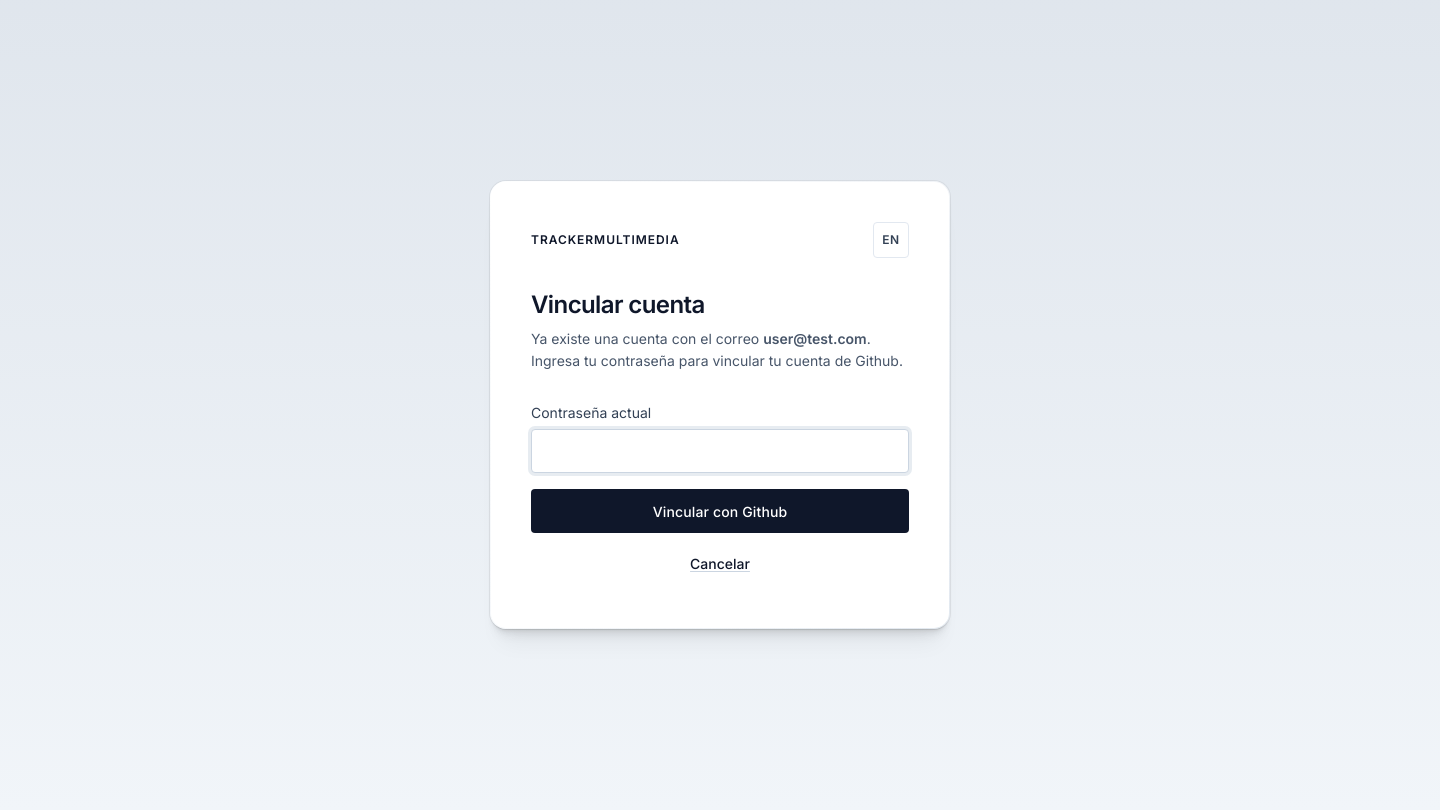
LinkAccountView › shows the extracted error when linking fails
In the password field labelled "Contraseña actual": (720, 451) [531,429,909,473], type "wrong-pass"
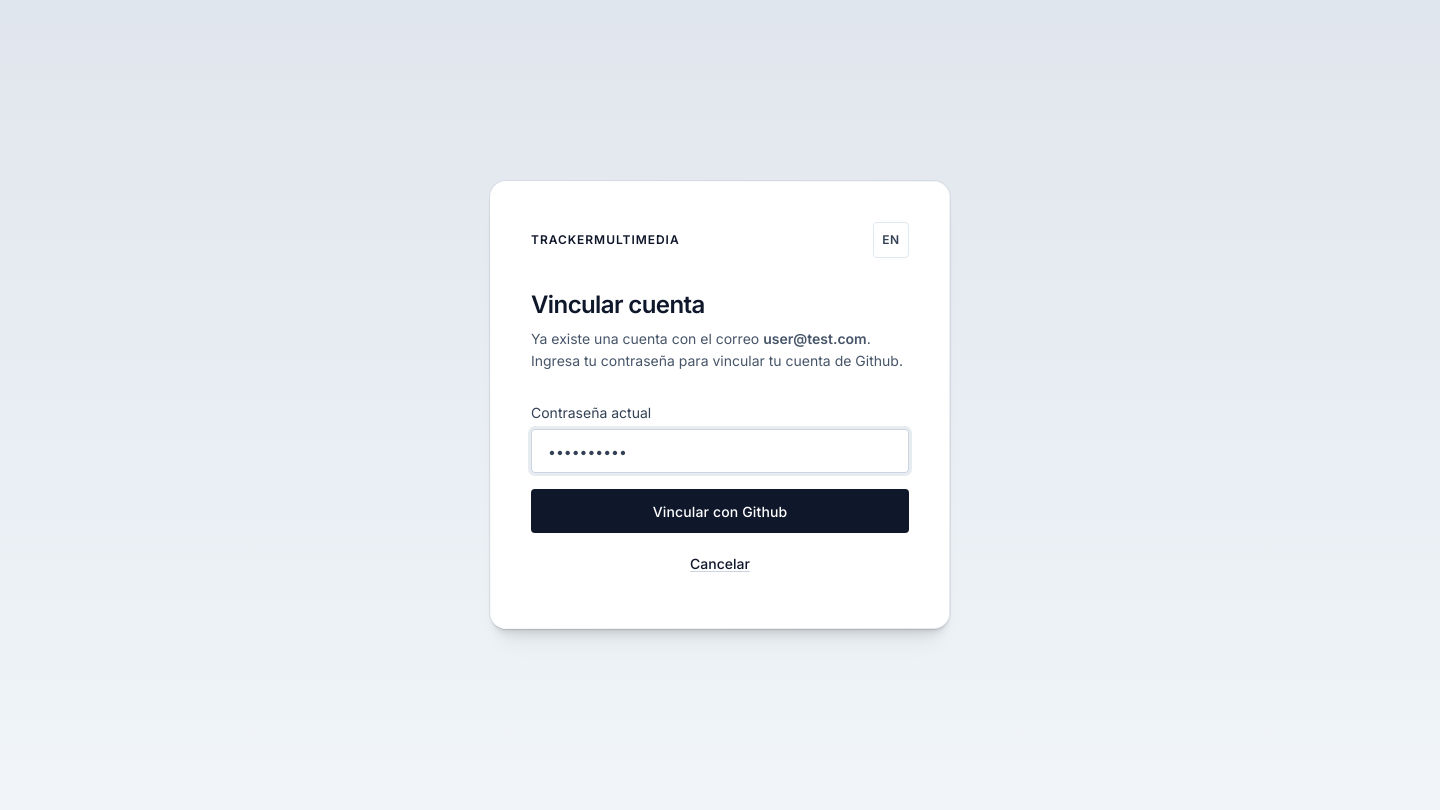
Click the button "Vincular con Github": (720, 511) [531,489,909,533]
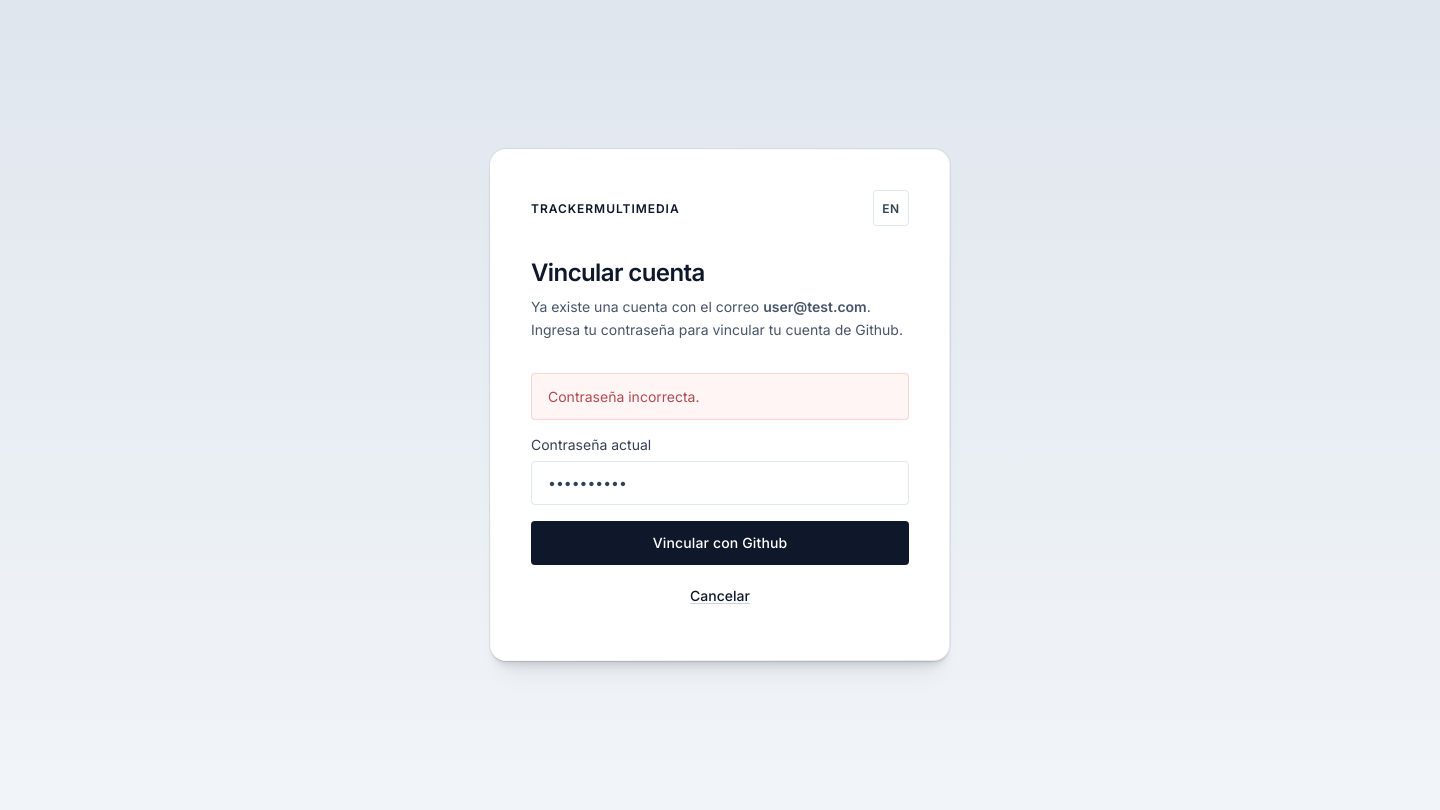
Check: the message reads "Contraseña incorrecta.", box [548,388,700,405]
